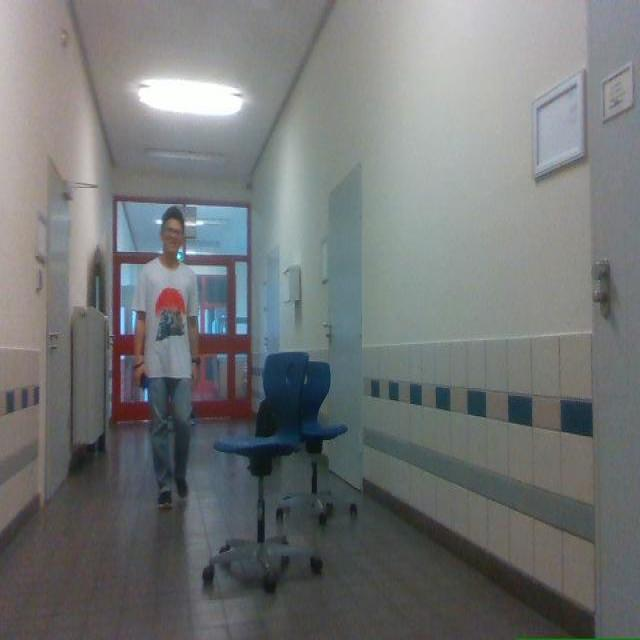humans: (134, 207, 199, 508)
objects: (202, 352, 322, 591), (276, 362, 346, 525), (255, 399, 277, 437)
